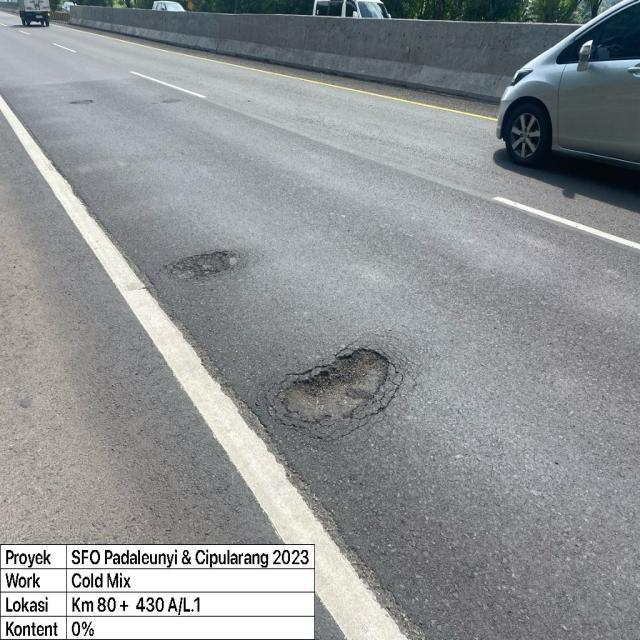Buraco: (272, 344, 402, 430), (159, 248, 245, 283), (66, 98, 96, 107)
